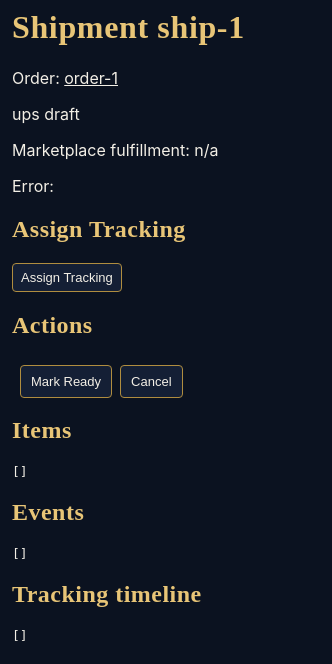
Test: Shipment detail lifecycle actions (Sprint 60B) › requires confirmation before submitting Mark Ready, then reloads authoritative state
Click the button "Mark Ready" at point(66, 381), box [20, 364, 112, 398]
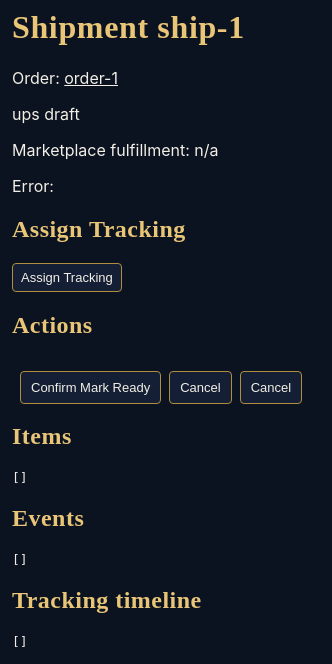
Click the button "Confirm Mark Ready" at point(91, 387), box [20, 370, 161, 404]
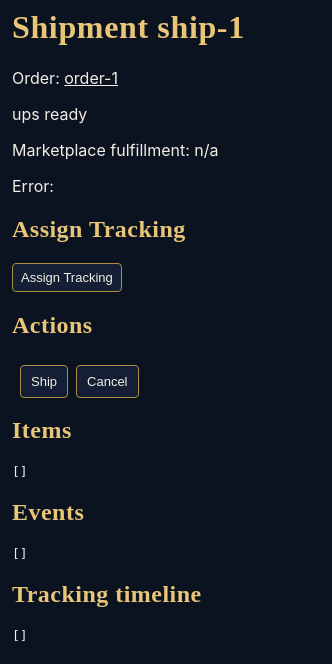
Expected: the button "Ship" is shown, [20, 364, 68, 398]
